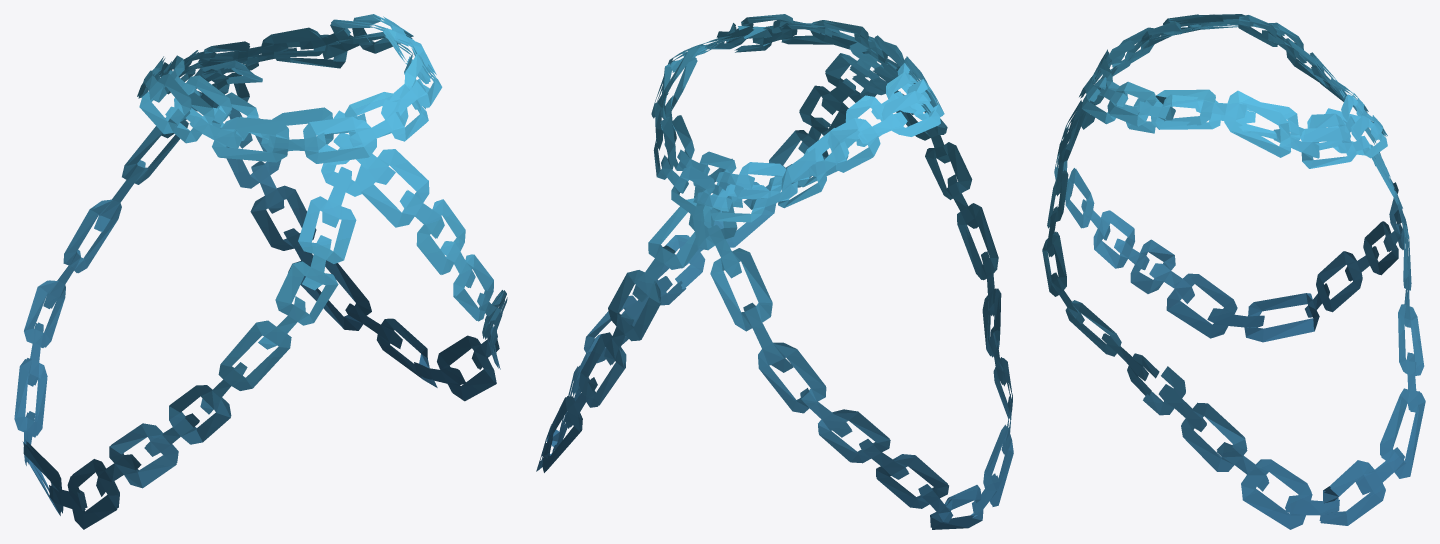
The model's file is CharSkyNPC_Horn_FatLaborChains_02.glb.
3 views of the same model, side by side, from view 1: azimuth 30°, elevation 25°; view 2: azimuth 150°, elevation 25°; view 3: azimuth 270°, elevation 25° (orthographic). The views are drawn at different scales.
Visible parts, largest first — view 1: CharSkyNPC_Horn_FatLaborChains_02; view 2: CharSkyNPC_Horn_FatLaborChains_02; view 3: CharSkyNPC_Horn_FatLaborChains_02.
Boxes of the visible parts, x1=… form: CharSkyNPC_Horn_FatLaborChains_02: x1=14, y1=14, x2=507, y2=529; CharSkyNPC_Horn_FatLaborChains_02: x1=536, y1=14, x2=1013, y2=529; CharSkyNPC_Horn_FatLaborChains_02: x1=1042, y1=14, x2=1425, y2=529.
Bounding box in the file's own units: 5.13 × 4.89 × 4.39.
1 material, 1 textured.
